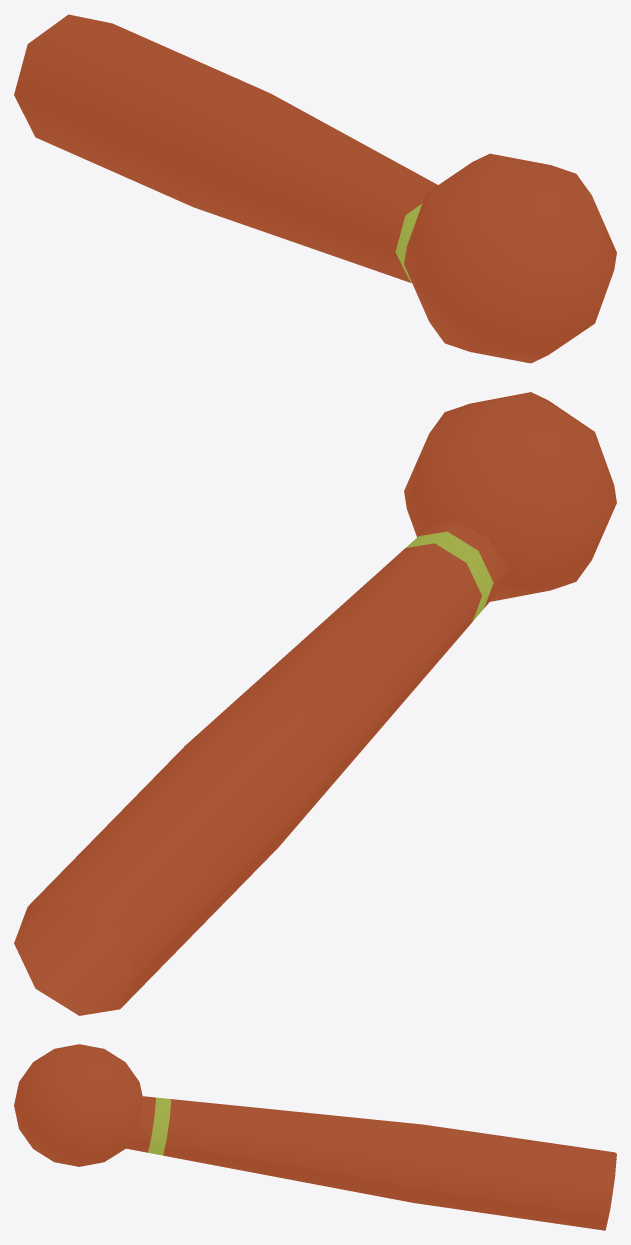
The model's file is generic_hand.glb.
The picture shows the model from 3 angles, top to bottom: view 1: azimuth 30°, elevation 25°; view 2: azimuth 150°, elevation 25°; view 3: azimuth 270°, elevation 25°; orthographic projection. The views are drawn at different scales.
Parts seen in each view (by area): view 1: Cylinder; view 2: Cylinder; view 3: Cylinder.
Boxes of the visible parts, box(x1,y1,x2,y2) form: Cylinder: box(14, 14, 616, 363); Cylinder: box(14, 392, 616, 1015); Cylinder: box(14, 1044, 616, 1230).
Bounding box in the file's own units: 2 × 3.09 × 9.23.
